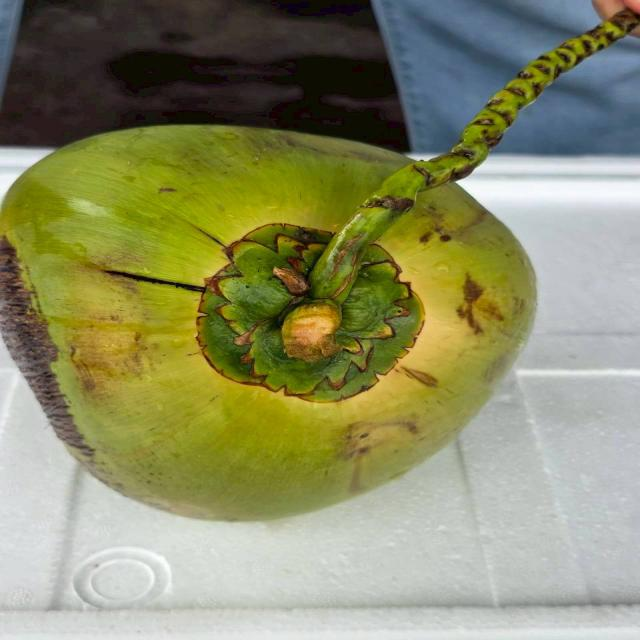coco_1.5: (143, 199, 486, 439)
